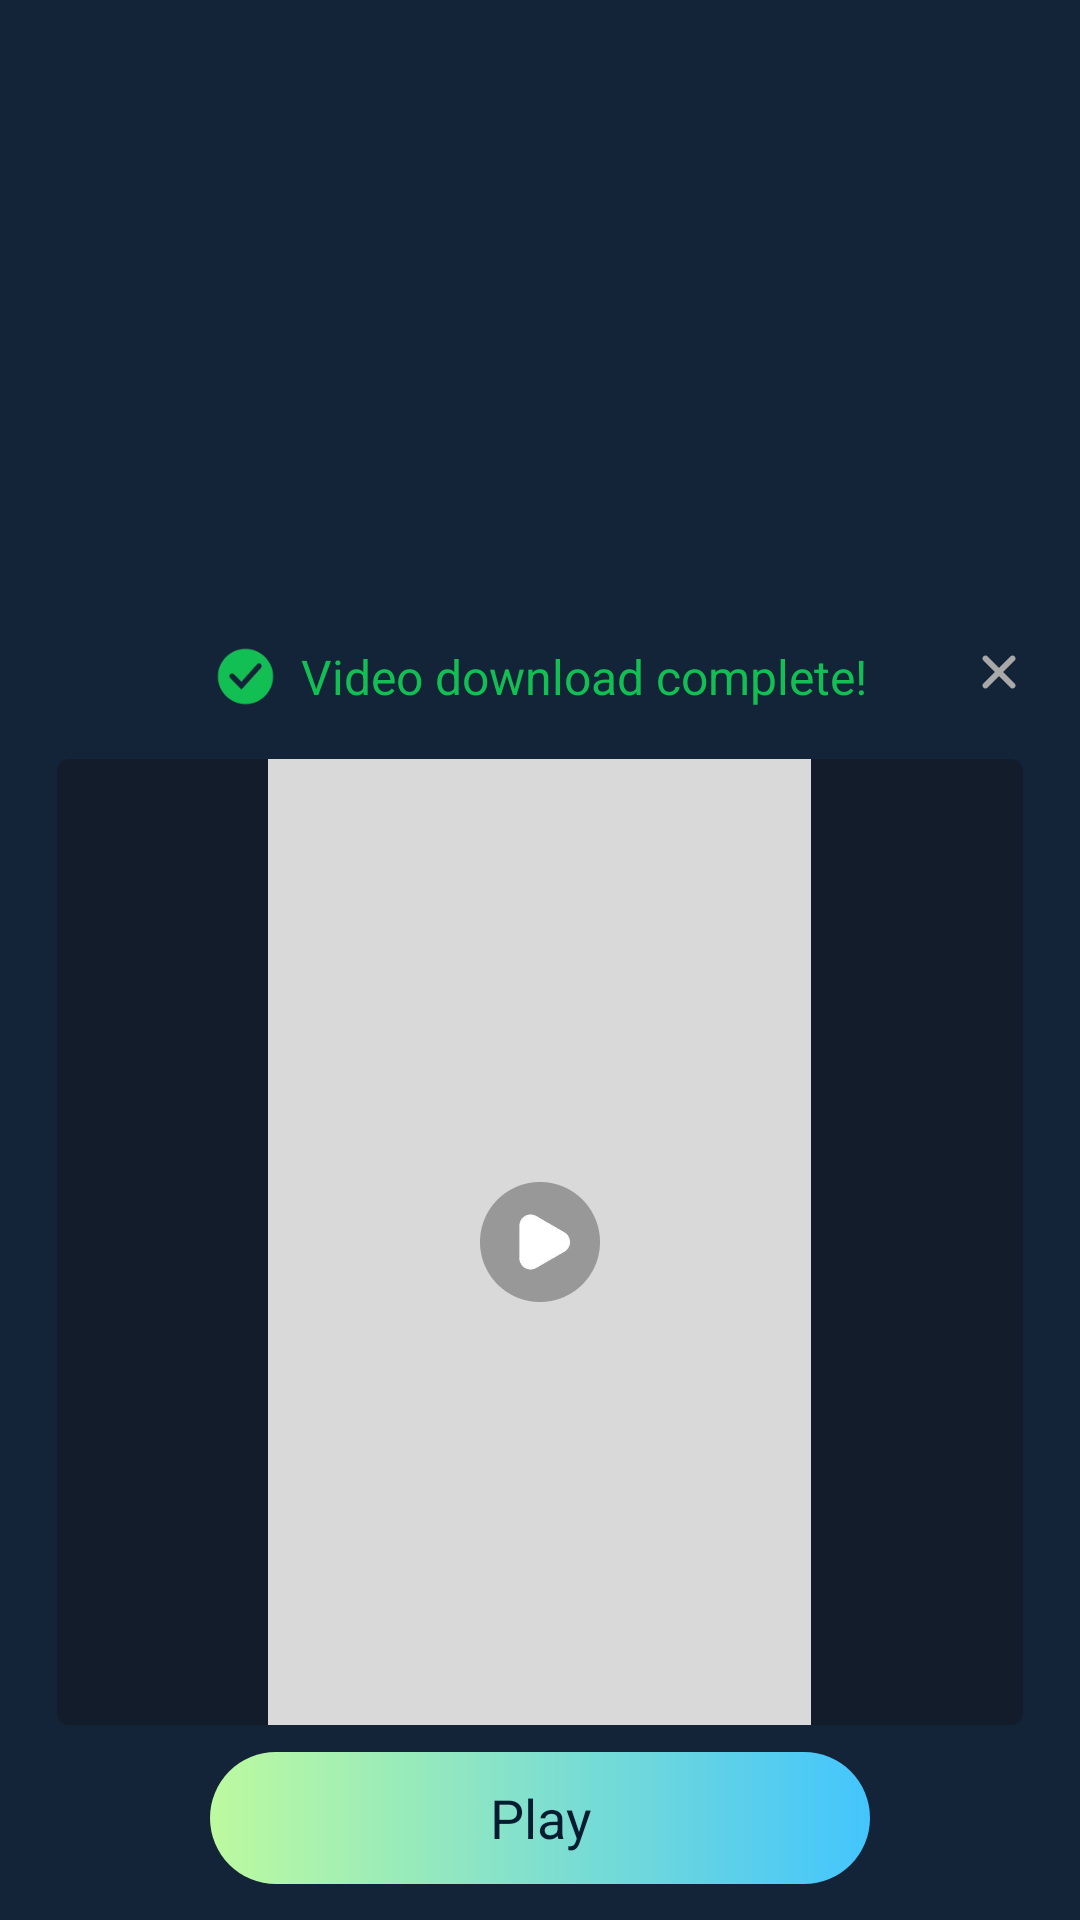

Where icons sit on this 1080 × 1920 app screen, as (x1, y1, x2, y2):
close: (982, 655, 1016, 689)
download finish: (217, 648, 274, 705)
play: (480, 1182, 600, 1302)
